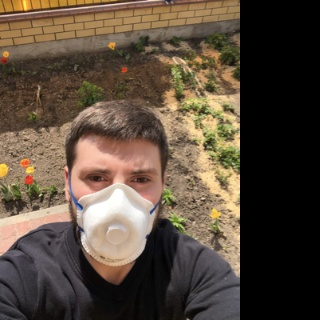with_mask: (72, 150, 160, 267)
